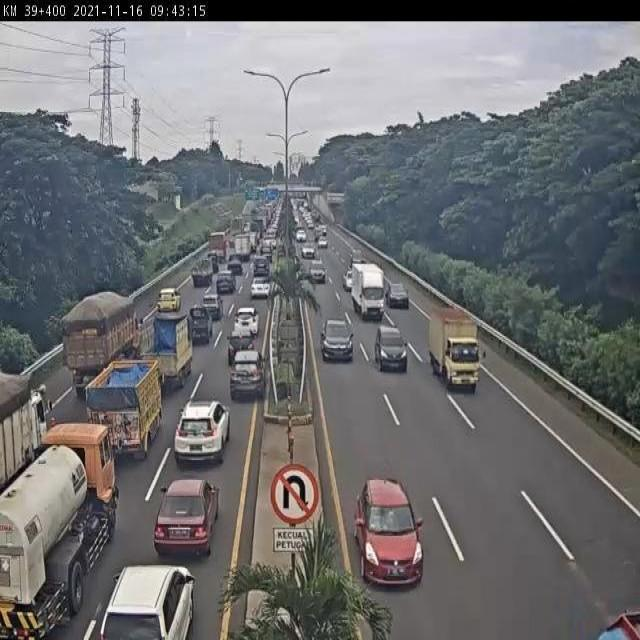Car: (354, 477, 424, 586), (97, 564, 196, 638), (153, 478, 220, 558), (173, 398, 231, 466), (228, 348, 266, 400), (373, 324, 407, 373), (320, 318, 354, 362), (231, 306, 260, 344), (386, 282, 409, 309), (202, 291, 223, 319), (250, 278, 271, 300), (216, 272, 235, 295), (309, 259, 326, 283), (253, 255, 270, 279), (227, 257, 243, 275), (301, 243, 315, 259), (342, 270, 352, 292), (264, 238, 276, 255), (295, 228, 307, 243), (318, 236, 328, 248), (293, 216, 300, 229), (313, 213, 321, 223), (320, 225, 327, 236)
Truck: (0, 438, 112, 640), (60, 292, 141, 401), (85, 358, 163, 459), (0, 370, 52, 512), (430, 306, 482, 394), (143, 308, 193, 392), (350, 262, 384, 322), (189, 306, 215, 344), (207, 231, 229, 264), (191, 258, 214, 287), (233, 233, 253, 262), (231, 216, 246, 245), (254, 210, 269, 238), (295, 198, 307, 217), (351, 250, 363, 266), (289, 199, 298, 217), (294, 191, 306, 203), (293, 254, 301, 272), (277, 243, 286, 257)
